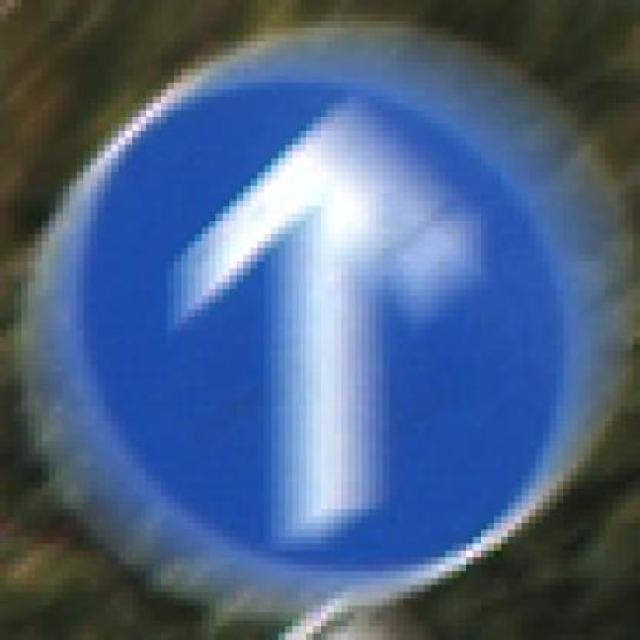Straight Ahead Only: (28, 21, 620, 613)
